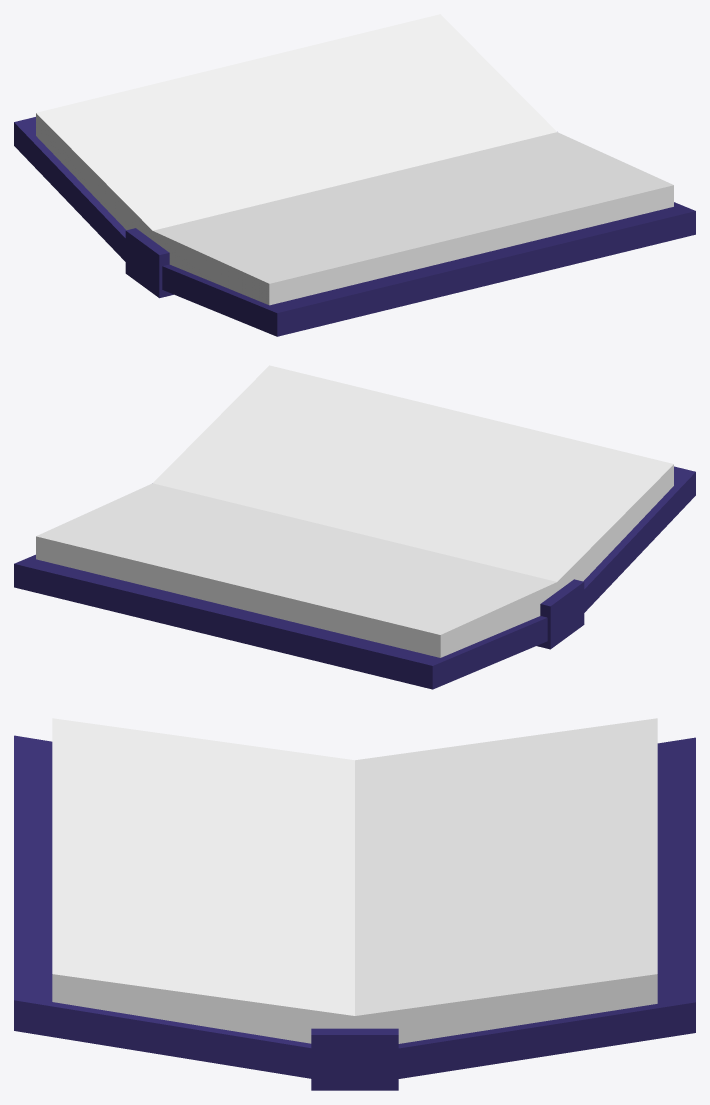
The model's file is bookblue.fbx.
3 views of the same model, one above another, from view 1: azimuth 30°, elevation 25°; view 2: azimuth 150°, elevation 25°; view 3: azimuth 270°, elevation 25° (orthographic). The views are drawn at different scales.
Parts seen in each view (by area): view 1: Cube, Cube.002, Cube.001; view 2: Cube, Cube.002, Cube.001; view 3: Cube, Cube.002, Cube.001.
Boxes of the visible parts, x1,y1,x2,y2 form: Cube: (36, 14, 673, 305); Cube.002: (14, 117, 695, 336); Cube.001: (125, 228, 173, 298); Cube: (36, 365, 673, 657); Cube.002: (14, 466, 695, 689); Cube.001: (537, 579, 584, 649); Cube: (52, 718, 657, 1043); Cube.002: (14, 735, 695, 1078); Cube.001: (311, 1028, 398, 1090).
Size of the model in its own units: 382 by 73.22 by 410.
